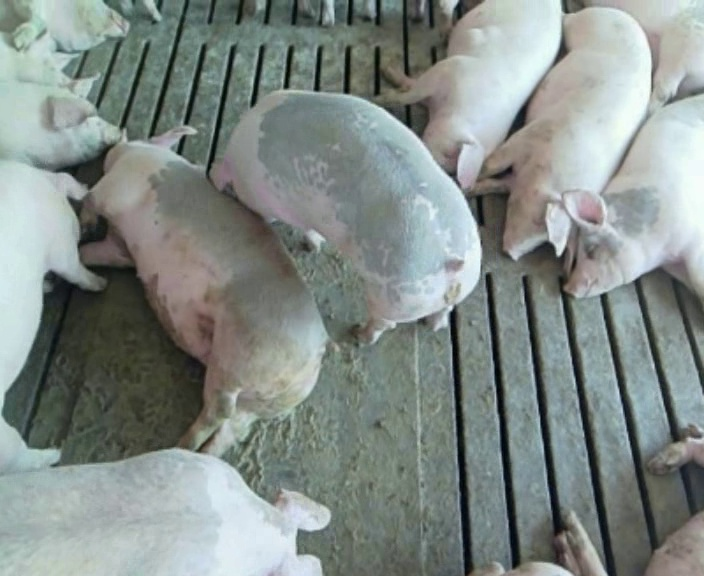pig: (81, 127, 327, 455), (211, 90, 480, 342), (460, 8, 651, 275), (0, 449, 329, 574), (374, 2, 561, 189), (563, 94, 703, 303), (591, 1, 703, 111), (0, 73, 125, 170)
